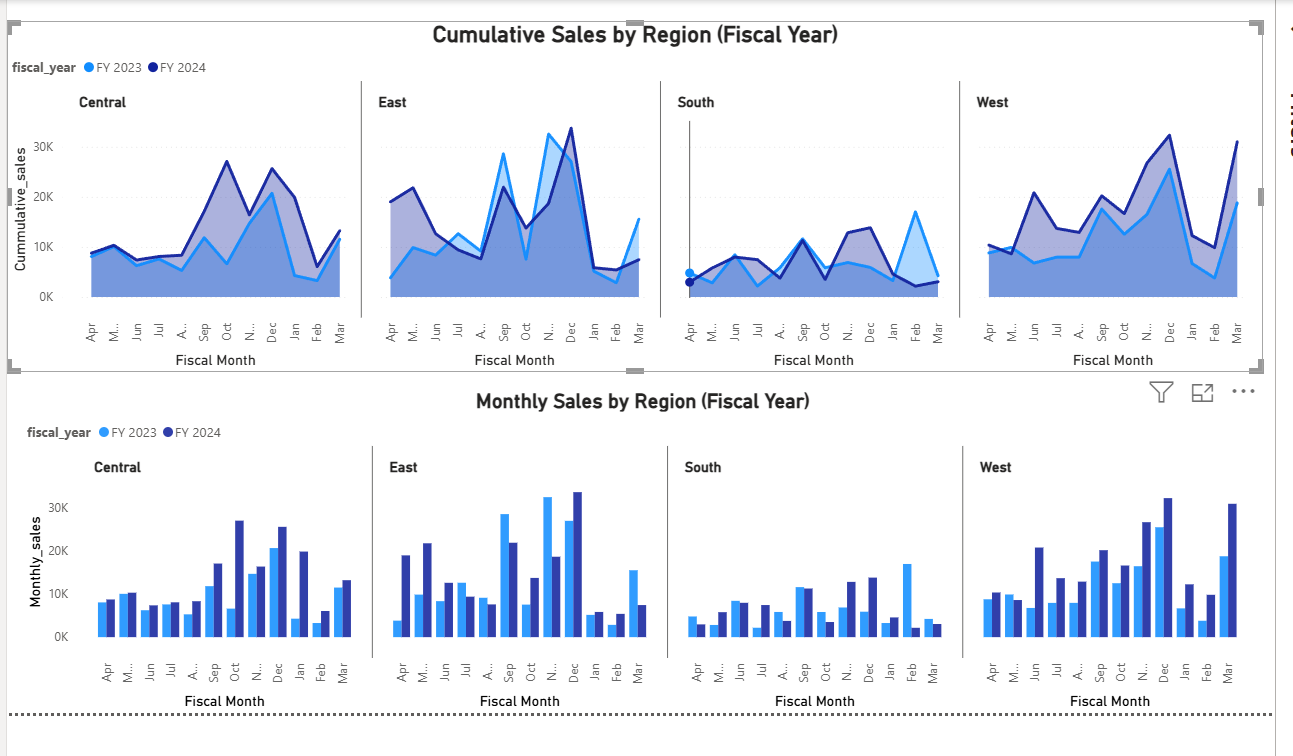

The dashboard page shown, as its layout file describes it:
{"tool":"powerbi","page":{"name":"Level 1","canvas":[1280,720],"ordinal":0},"visuals":[{"type":"lineChart","title":"Cumulative Sales by Region (Fiscal Year)","fields":{"Category":["Orders$FilterDatabase.Fiscal Month"],"Y":["Orders$FilterDatabase.Cummulative_sales_2024"],"Series":["Orders$FilterDatabase.fiscal_year"],"Rows":["Orders$FilterDatabase.Region"]},"box":[0,20.6,1268,355.4],"z":0},{"type":"clusteredColumnChart","title":"Monthly Sales by Region (Fiscal Year)","fields":{"Category":["Orders$FilterDatabase.Fiscal Month"],"Y":["Orders$FilterDatabase.Monthly_sales"],"Series":["Orders$FilterDatabase.fiscal_year"],"Rows":["Orders$FilterDatabase.Region"]},"box":[15.1,392.5,1252.9,328],"z":1000}]}

Visuals, with their boxes on the page's 1280x720 design canvas (x1, y1, x2, y2). These are canvas units, not pixel positions in the 1293x756 screenshot, which may show the page scaled, cropped or inside an application window:
"Cumulative Sales by Region (Fiscal Year)" lineChart: (x1=0, y1=21, x2=1268, y2=376)
"Monthly Sales by Region (Fiscal Year)" clusteredColumnChart: (x1=15, y1=392, x2=1268, y2=720)
